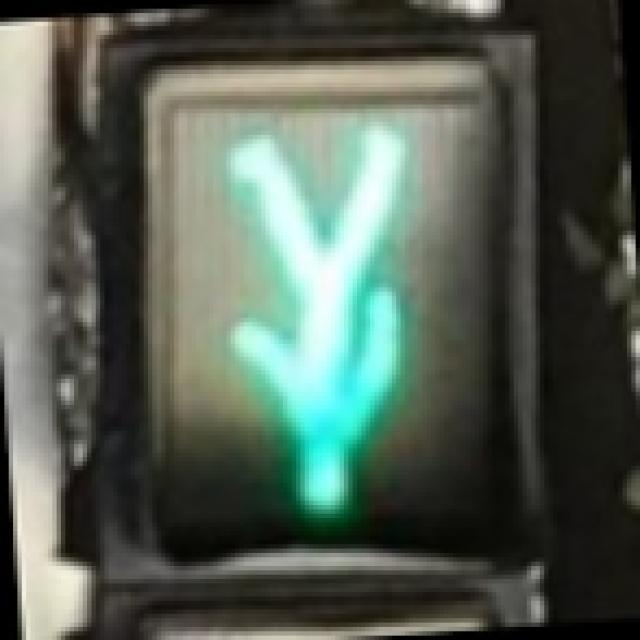geen-crossing: (144, 87, 488, 536)
